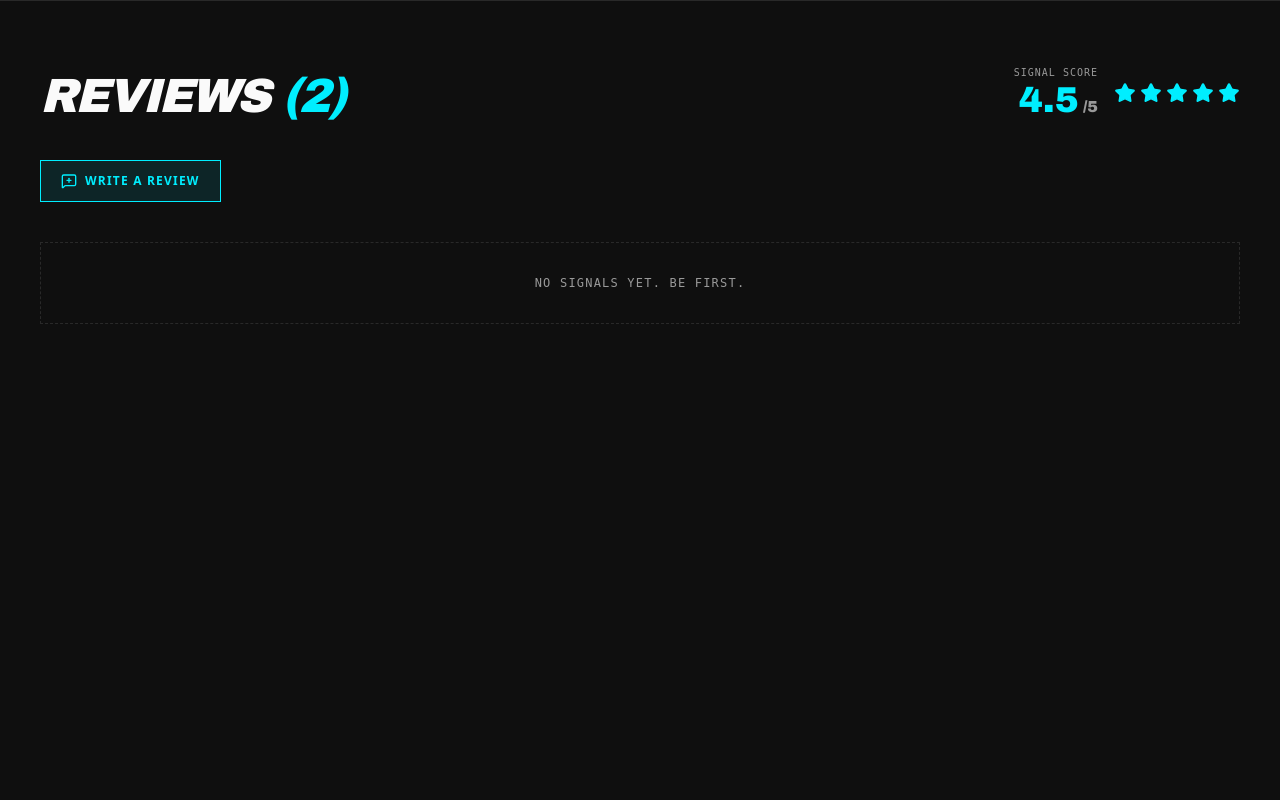
ReviewsSection › lets an eligible user open and cancel the review form
This screenshot has width=1280, height=800.
Click the button "Write a Review".
click(130, 181)  # box [40,160,221,202]
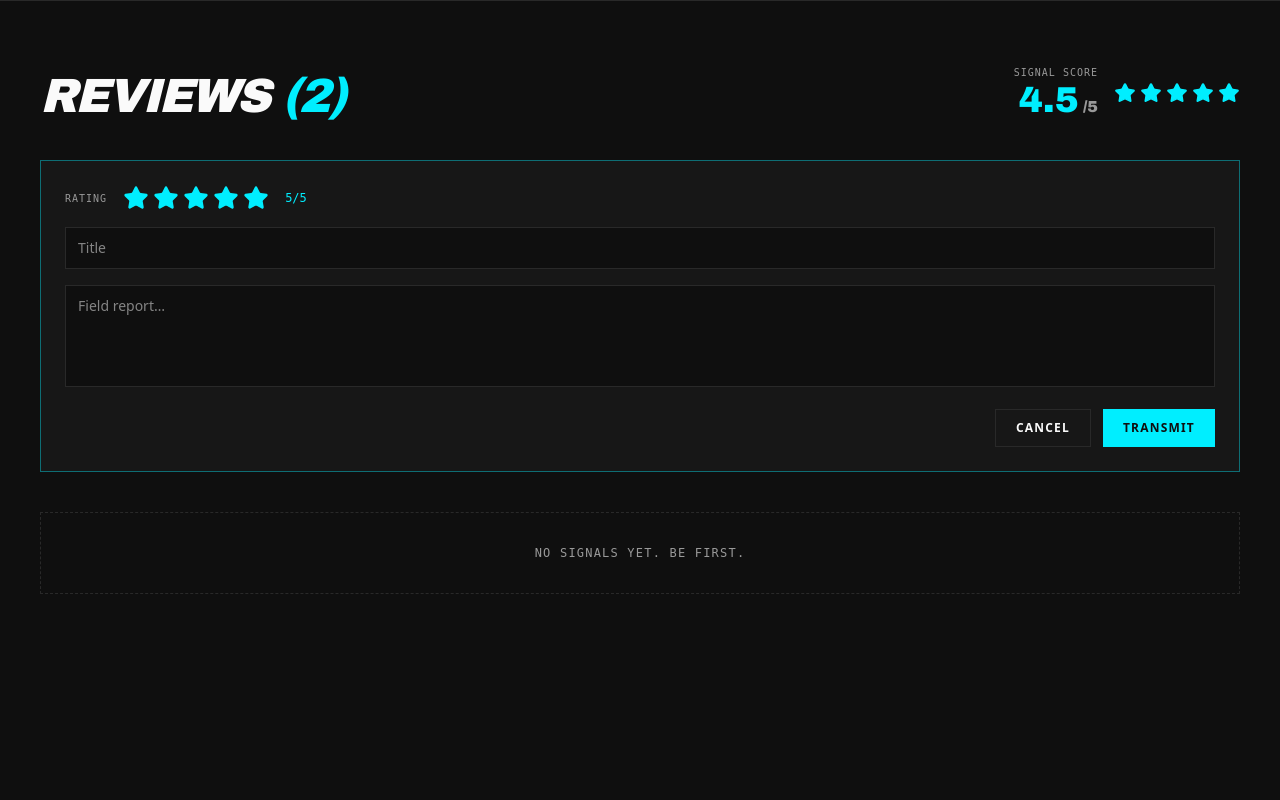
Result: the field labelled "Title" is shown at [65,227,1215,269]
Result: the button "Write a Review" is gone
Click the button "Cancel".
click(1043, 428)  # box [995,409,1091,447]
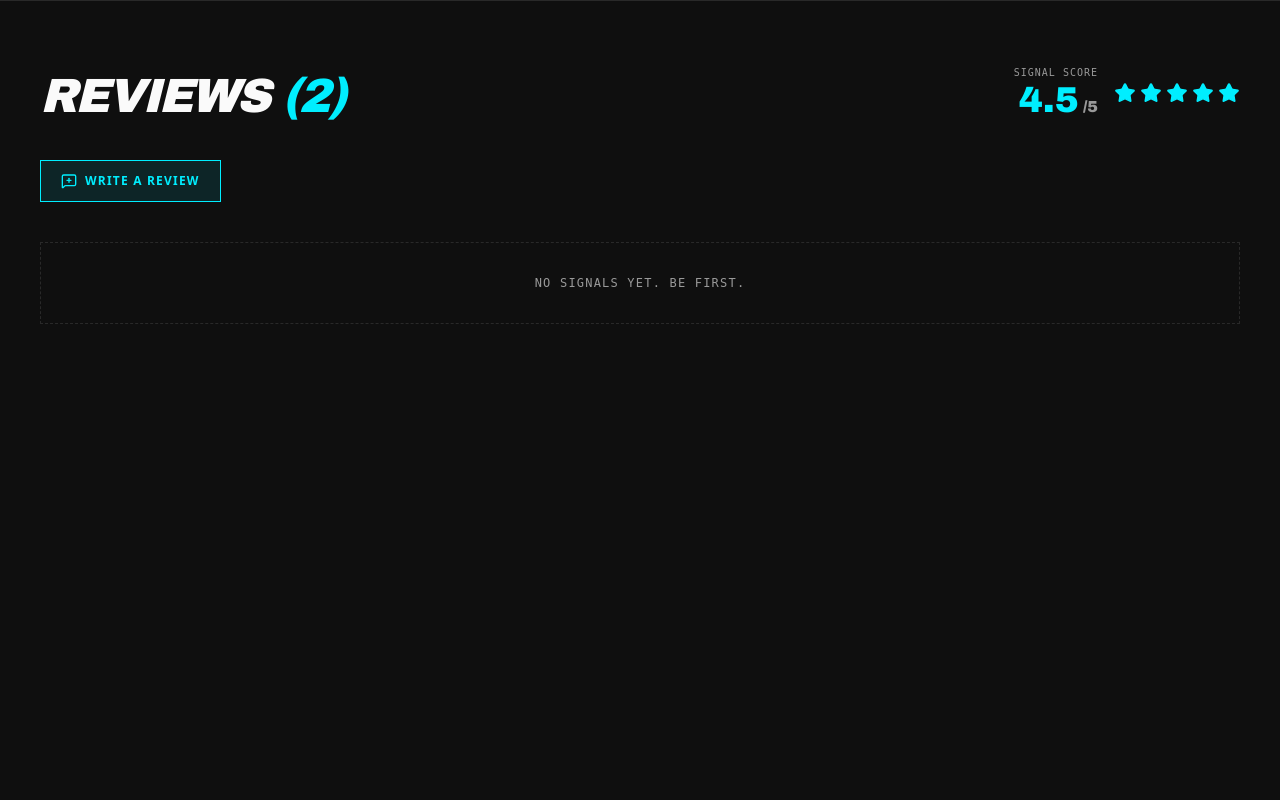
Result: the field labelled "Title" is gone
Result: the button "Write a Review" is shown at [40,160,221,202]
